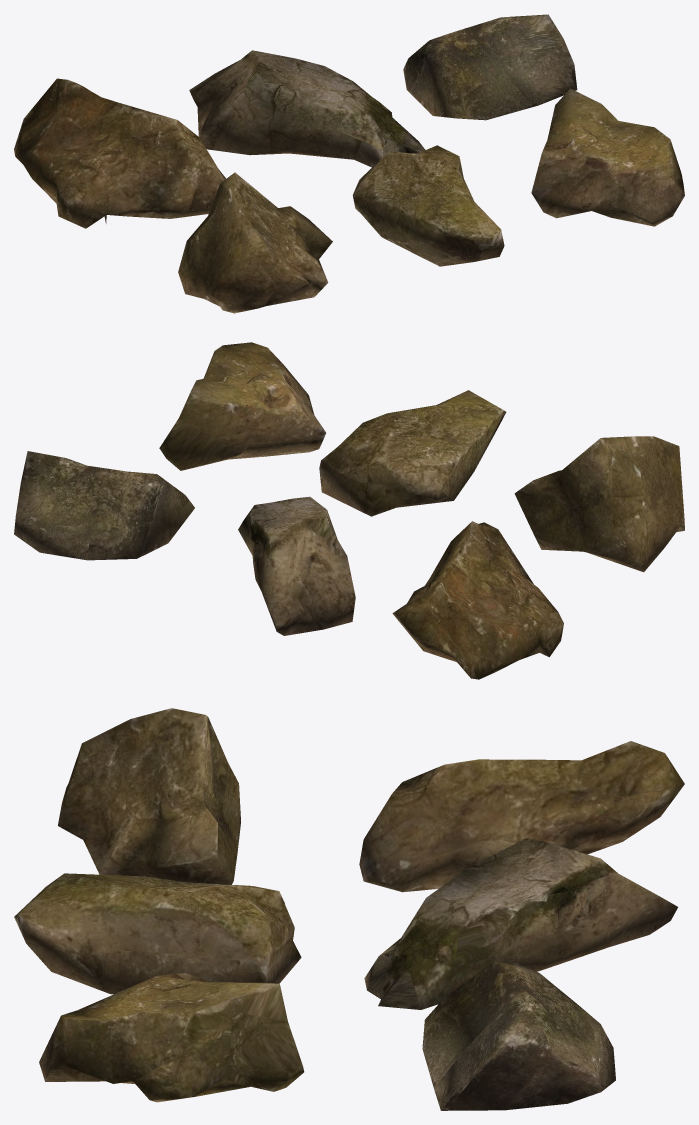
File: glb_rocks.d6615d4b.glb
3 views of the same model, one above another, from view 1: azimuth 30°, elevation 25°; view 2: azimuth 150°, elevation 25°; view 3: azimuth 270°, elevation 25° (orthographic). The views are drawn at different scales.
Parts seen in each view (by area): view 1: rock_moss_set_01_rock01; view 2: rock_moss_set_01_rock01; view 3: rock_moss_set_01_rock01.
Boxes of the visible parts, x1,y1,x2,y2 form: rock_moss_set_01_rock01: (14, 14, 684, 313); rock_moss_set_01_rock01: (14, 342, 684, 679); rock_moss_set_01_rock01: (14, 708, 684, 1110).
Bounding box in the file's own units: 7.96 × 1.73 × 6.92.
1 material, 1 textured.
